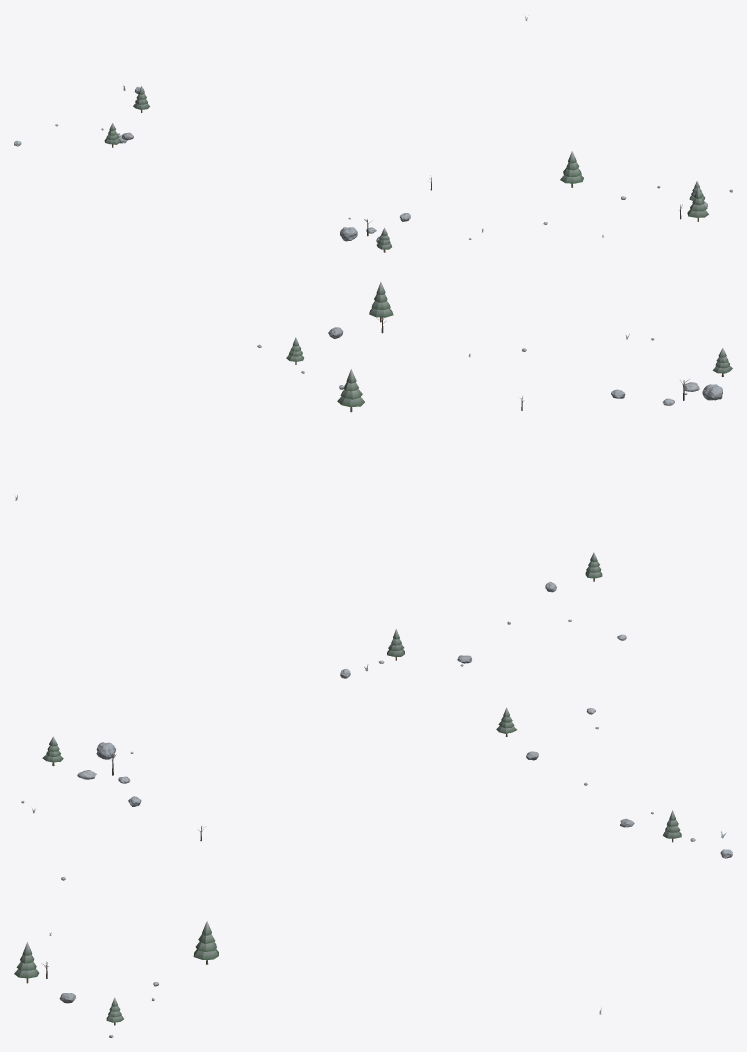
Rendered from frost_land_scatter_c20_11.glb.
The picture shows the model from 3 angles, top to bottom: view 1: azimuth 30°, elevation 25°; view 2: azimuth 150°, elevation 25°; view 3: azimuth 270°, elevation 25°; orthographic projection. The views are drawn at different scales.
Parts seen in each view (by area): view 1: frost_land_scatter_c20_11; view 2: frost_land_scatter_c20_11; view 3: frost_land_scatter_c20_11.
Part boxes in pixels (x1,y1,x2,y2): frost_land_scatter_c20_11: [14, 15, 732, 252]; frost_land_scatter_c20_11: [14, 281, 732, 678]; frost_land_scatter_c20_11: [14, 707, 732, 1037].
Bounding box in the file's own units: 214 × 34.24 × 216.
